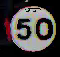Speed limit: (7, 2, 58, 50)
